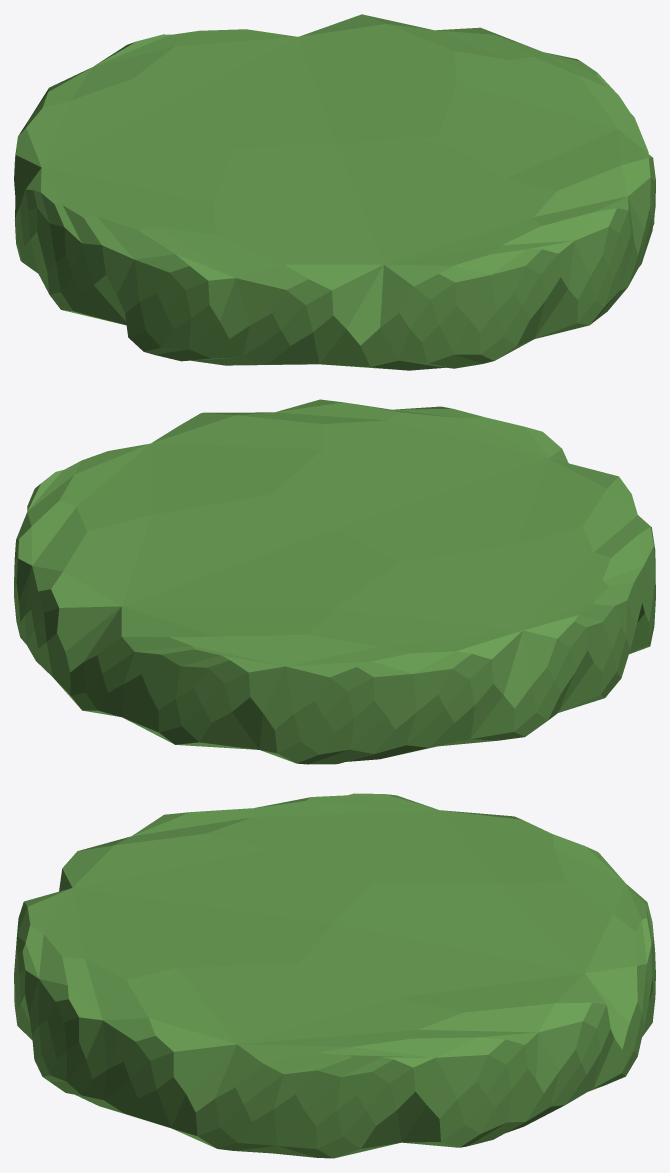
File: ground_placeholder.glb
3 views of the same model, one above another, from view 1: azimuth 30°, elevation 25°; view 2: azimuth 150°, elevation 25°; view 3: azimuth 270°, elevation 25° (orthographic).
Visible parts, largest first — view 1: Cylinder; view 2: Cylinder; view 3: Cylinder.
Boxes of the visible parts, bbox=[...] form: Cylinder: bbox=[14, 14, 655, 370]; Cylinder: bbox=[14, 399, 655, 764]; Cylinder: bbox=[14, 793, 655, 1158].
Size of the model in its own units: 90.16 by 16.36 by 90.16.
